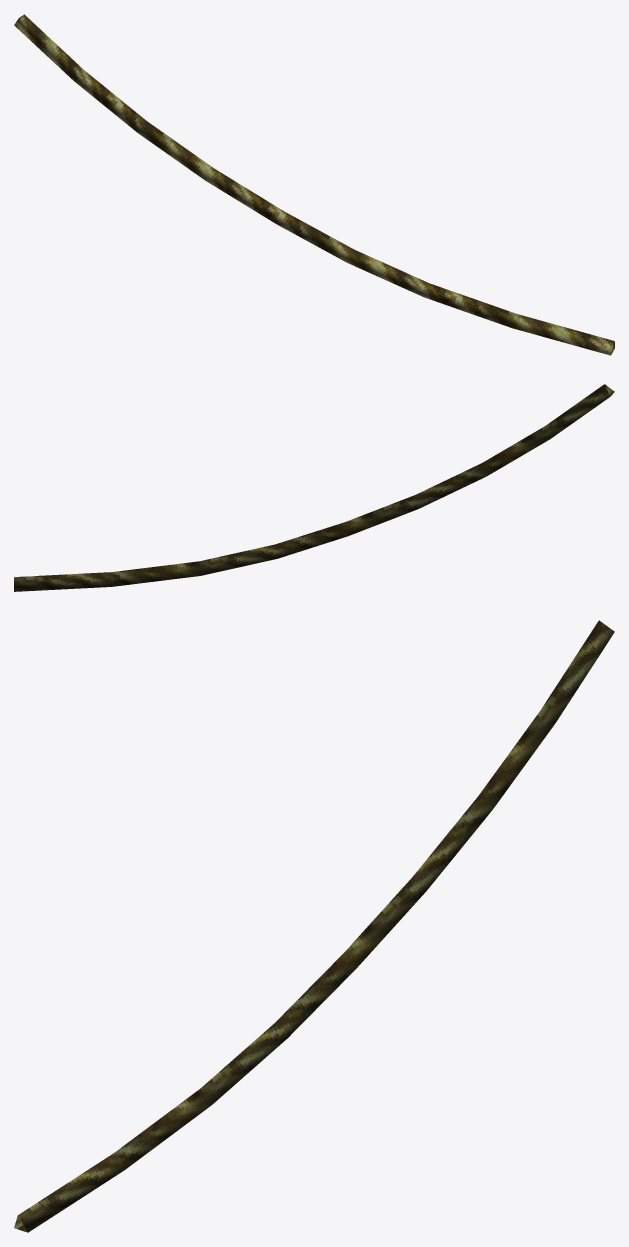
The model's file is OVERHILL_A_01_BRIDGE_ROPE_12.fbx.
The picture shows the model from 3 angles, top to bottom: view 1: azimuth 30°, elevation 25°; view 2: azimuth 210°, elevation 25°; view 3: azimuth 270°, elevation 25°; orthographic projection. The views are drawn at different scales.
Parts seen in each view (by area): view 1: OVERHILL_A_01_BRIDGE_ROPE_12; view 2: OVERHILL_A_01_BRIDGE_ROPE_12; view 3: OVERHILL_A_01_BRIDGE_ROPE_12.
Boxes of the visible parts, box(x1,y1,x2,y2) form: OVERHILL_A_01_BRIDGE_ROPE_12: box(14, 14, 614, 355); OVERHILL_A_01_BRIDGE_ROPE_12: box(14, 384, 614, 591); OVERHILL_A_01_BRIDGE_ROPE_12: box(14, 620, 614, 1232).
Size of the model in its own units: 14375 by 9640 by 14350.
1 material, 1 textured.
